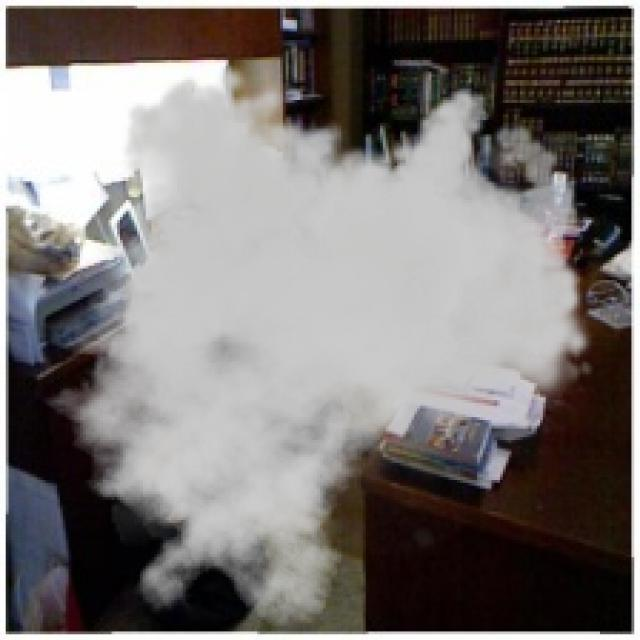Smoke: (26, 62, 594, 628)
